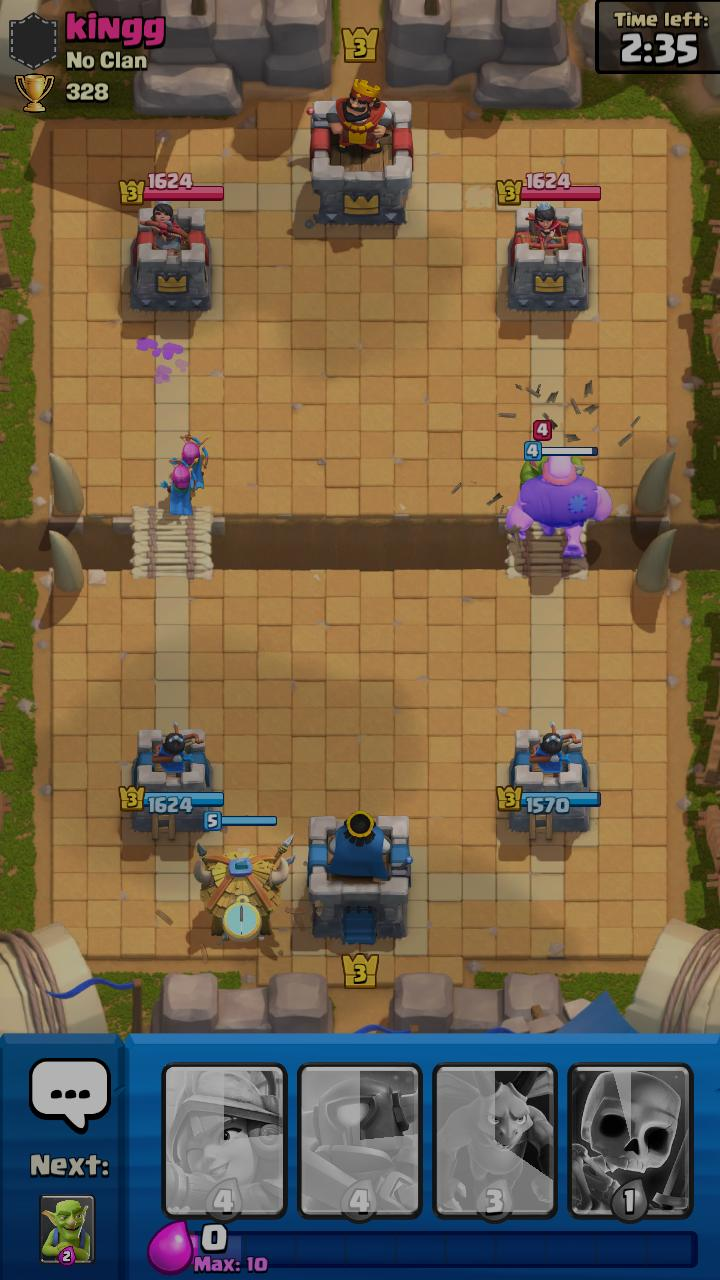ally: (194, 811, 296, 941), (506, 441, 614, 558), (170, 434, 211, 490), (160, 458, 199, 516)
enemy: (520, 420, 585, 490)
